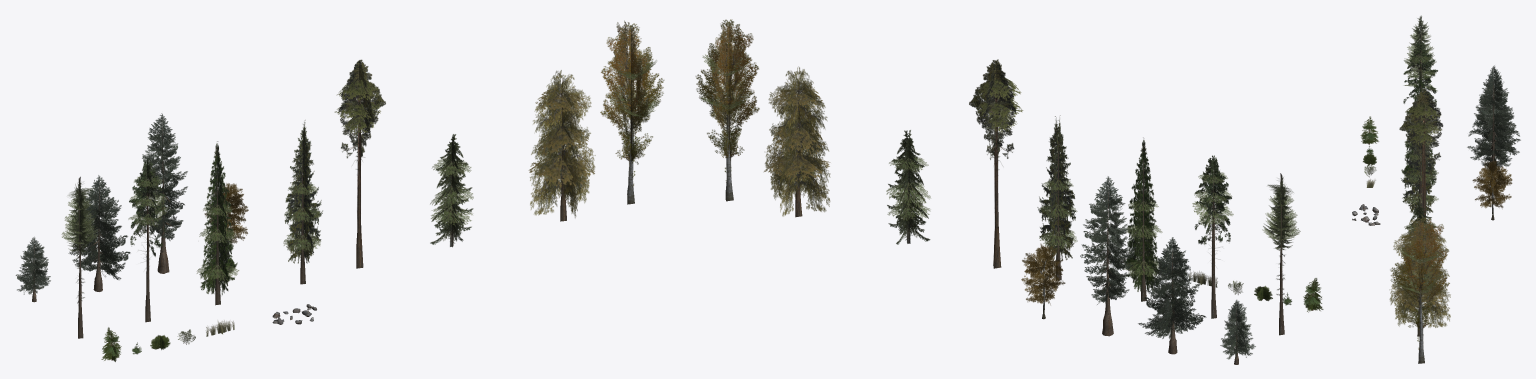
The model's file is forest_pack.glb.
The picture shows the model from 3 angles, left to right: view 1: azimuth 30°, elevation 25°; view 2: azimuth 150°, elevation 25°; view 3: azimuth 270°, elevation 25°; orthographic projection. The views are drawn at different scales.
Visible parts, largest first — view 1: Background_Tree_Atlas.004, Background_Tree_Atlas.001, Background_Tree_Atlas, Background_Tree_Atlas.003, Background_Tree_Atlas.005, Tree_Branches_01.002, Tree_Branches_01, Background_Tree_Atlas.002, Background_Tree_Atlas.007, Background_Tree_Atlas.006, Tree_Branches_01.001, Tree_Branches_02; view 2: Background_Tree_Atlas.004, Background_Tree_Atlas.001, Tree_Branches_01, Tree_Branches_01.002, Background_Tree_Atlas.005, Background_Tree_Atlas, Background_Tree_Atlas.003, Background_Tree_Atlas.002, Background_Tree_Atlas.007, Background_Tree_Atlas.006, Tree_Branches_02, Tree_Branches_01.001 (+1 smaller); view 3: Background_Tree_Atlas.001, Background_Tree_Atlas.004, Tree_Branches_01, Background_Tree_Atlas.005, Background_Tree_Atlas.003, Tree_Branches_01.002, Tree_Branches_02, Background_Tree_Atlas.007, Background_Tree_Atlas.006, Background_Tree_Atlas, Background_Tree_Atlas.002, Background_Tree_Atlas.009 (+1 smaller).
Part boxes in pixels (bbox=[...]): Background_Tree_Atlas.004: bbox=[528, 70, 595, 221]; Background_Tree_Atlas.001: bbox=[600, 20, 664, 204]; Background_Tree_Atlas: bbox=[197, 141, 238, 305]; Background_Tree_Atlas.003: bbox=[283, 120, 322, 284]; Background_Tree_Atlas.005: bbox=[334, 59, 385, 268]; Tree_Branches_01.002: bbox=[68, 175, 130, 279]; Tree_Branches_01: bbox=[140, 113, 187, 240]; Background_Tree_Atlas.002: bbox=[430, 134, 473, 247]; Background_Tree_Atlas.007: bbox=[128, 159, 168, 322]; Background_Tree_Atlas.006: bbox=[61, 176, 98, 338]; Tree_Branches_01.001: bbox=[15, 237, 50, 294]; Tree_Branches_02: bbox=[204, 183, 248, 243]; Background_Tree_Atlas.004: bbox=[764, 66, 830, 217]; Background_Tree_Atlas.001: bbox=[695, 19, 759, 201]; Tree_Branches_01: bbox=[1080, 176, 1135, 304]; Tree_Branches_01.002: bbox=[1138, 237, 1206, 339]; Background_Tree_Atlas.005: bbox=[969, 59, 1023, 268]; Background_Tree_Atlas: bbox=[1123, 137, 1162, 301]; Background_Tree_Atlas.003: bbox=[1037, 115, 1077, 280]; Background_Tree_Atlas.002: bbox=[886, 130, 930, 244]; Background_Tree_Atlas.007: bbox=[1192, 155, 1233, 318]; Background_Tree_Atlas.006: bbox=[1262, 173, 1300, 335]; Tree_Branches_02: bbox=[1021, 243, 1065, 304]; Tree_Branches_01.001: bbox=[1220, 300, 1255, 359]; Background_Tree_Atlas.001: bbox=[1390, 217, 1449, 363]; Background_Tree_Atlas.004: bbox=[1389, 214, 1450, 336]; Tree_Branches_01: bbox=[1476, 65, 1512, 167]; Background_Tree_Atlas.005: bbox=[1399, 89, 1443, 221]; Background_Tree_Atlas.003: bbox=[1401, 117, 1438, 215]; Tree_Branches_01.002: bbox=[1467, 81, 1520, 161]; Tree_Branches_02: bbox=[1472, 160, 1512, 208]; Background_Tree_Atlas.007: bbox=[1403, 40, 1437, 113]; Background_Tree_Atlas.006: bbox=[1404, 15, 1436, 80]; Background_Tree_Atlas: bbox=[1401, 69, 1438, 191]; Background_Tree_Atlas.002: bbox=[1401, 201, 1437, 284]; Background_Tree_Atlas.009: bbox=[1360, 116, 1378, 144].
Size of the model in its own units: 101 by 33.75 by 30.38.
Materials: 6 (6 with a texture image).
